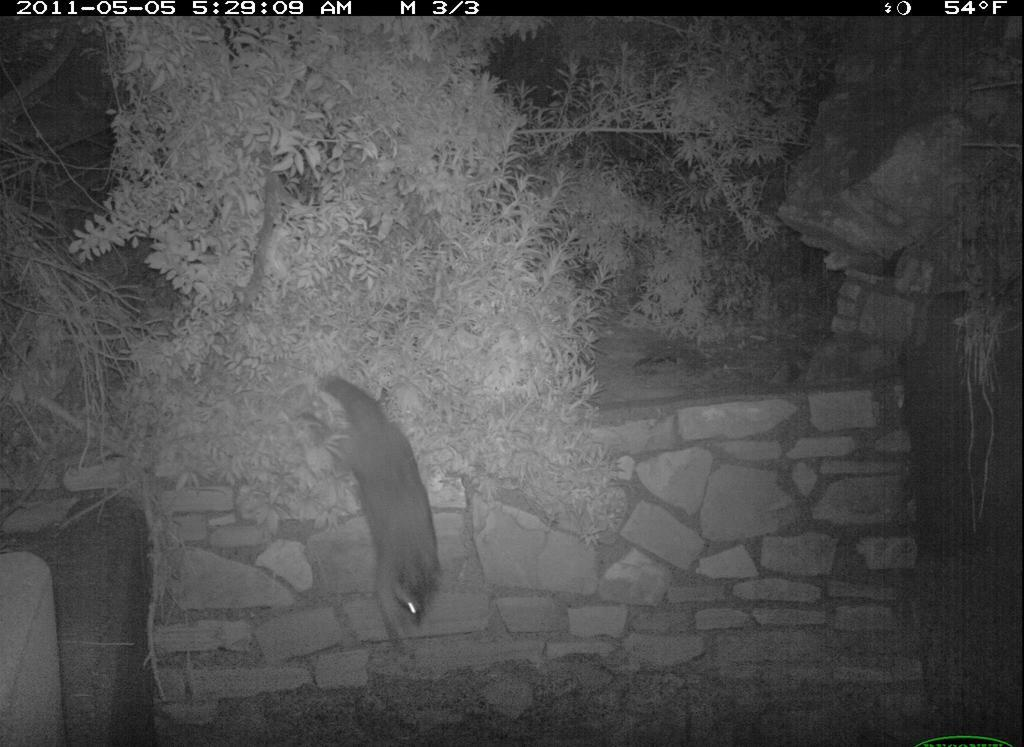raccoon: (283, 356, 455, 657)
